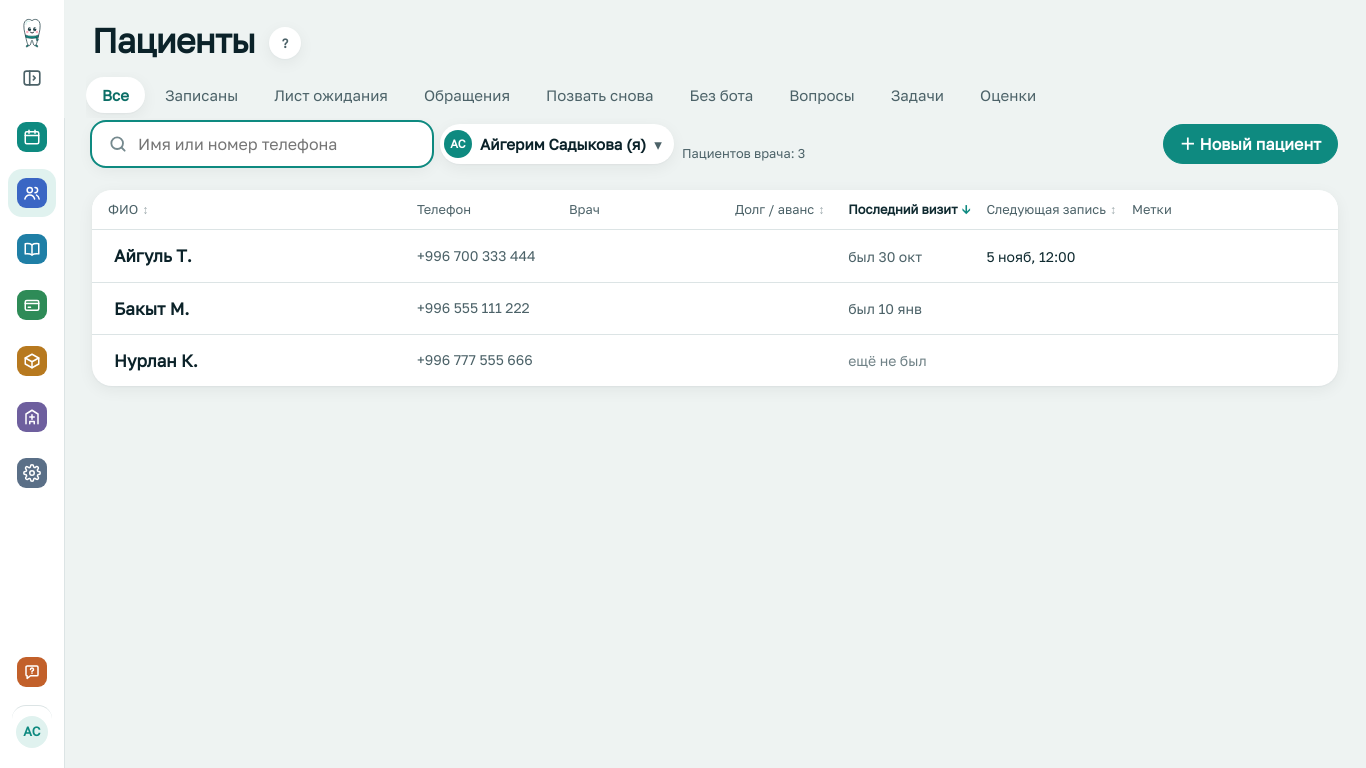
Test: нет среди последних — ищем по всей клинике на сервере
The image size is (1366, 768).
Expected: the button "Айгуль Т." is shown, [114,243,192,269]
Type "Эрмек" into the search field named "Поиск пациента" at (262, 144), box [92,122,432,166]
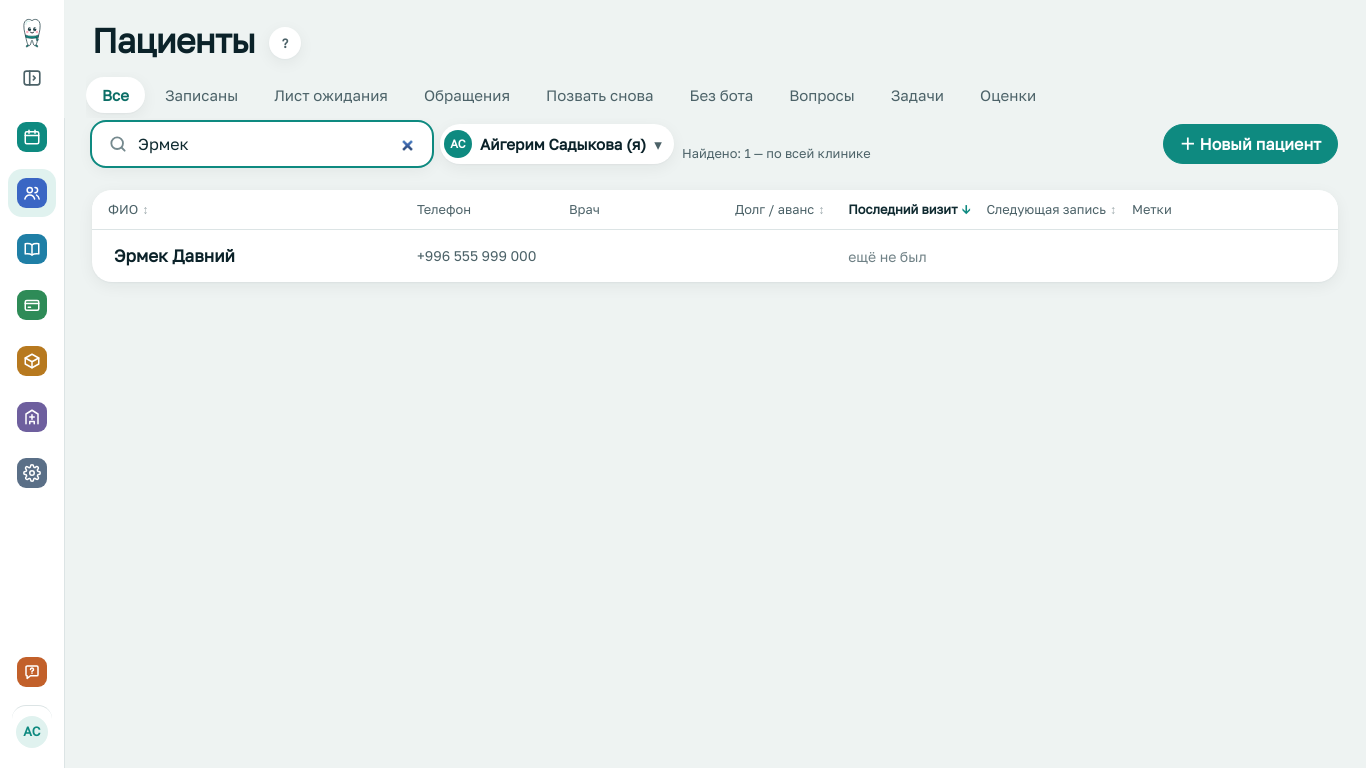
Result: the button "Эрмек Давний" is shown at [114,243,235,269]
